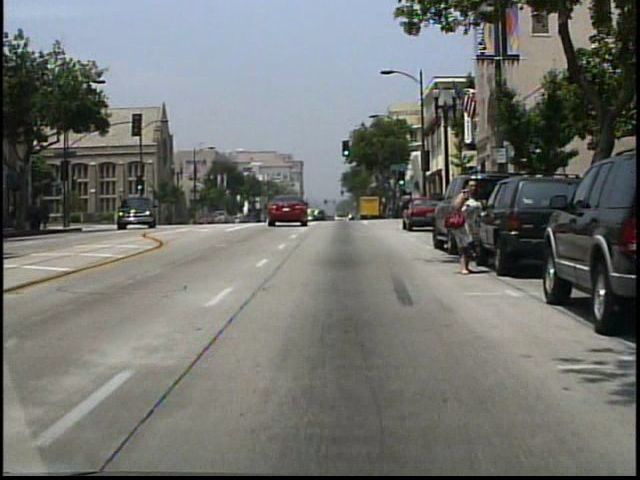person: (448, 176, 495, 277)
